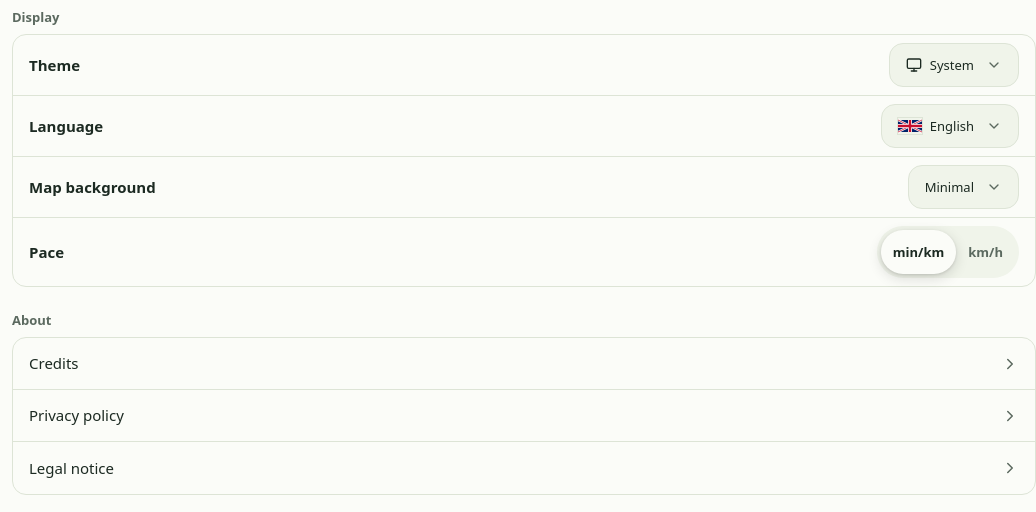
Test: SettingsView › saves the picked theme
What coordinates should you click on to do the following:
click the dropdown with test id "settings-theme"
I would click on:
 (954, 65)
Its box is [889,43,1019,87].
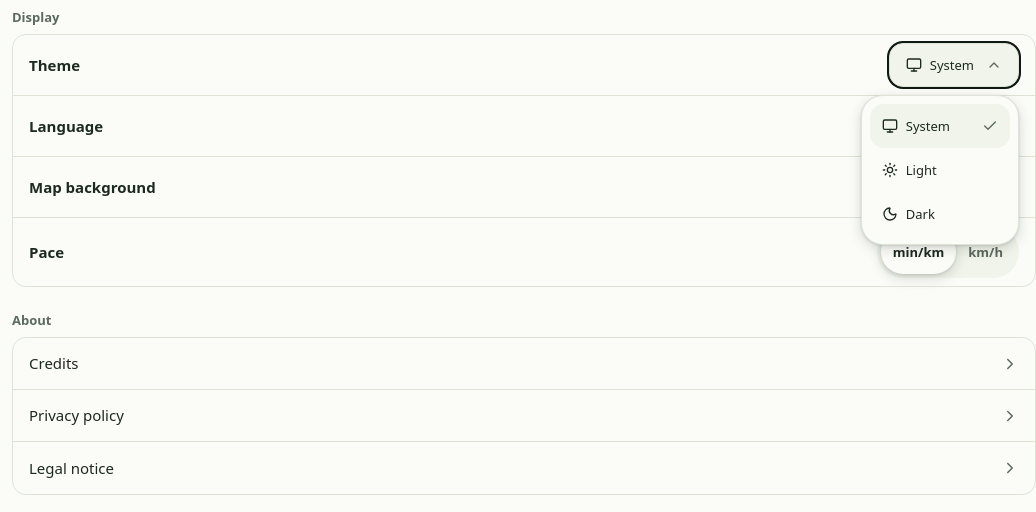
What coordinates should you click on to do the following:
click the option "Dark"
I would click on:
 (908, 214)
Its box is [882,205,935,223].
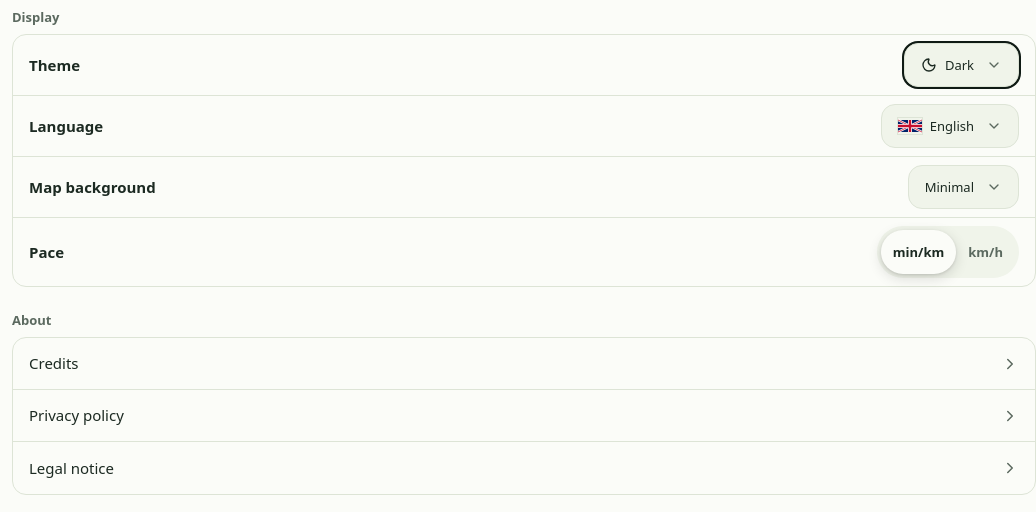
Expected: the dropdown with test id "settings-theme" reads "Dark", [904,43,1019,87]
